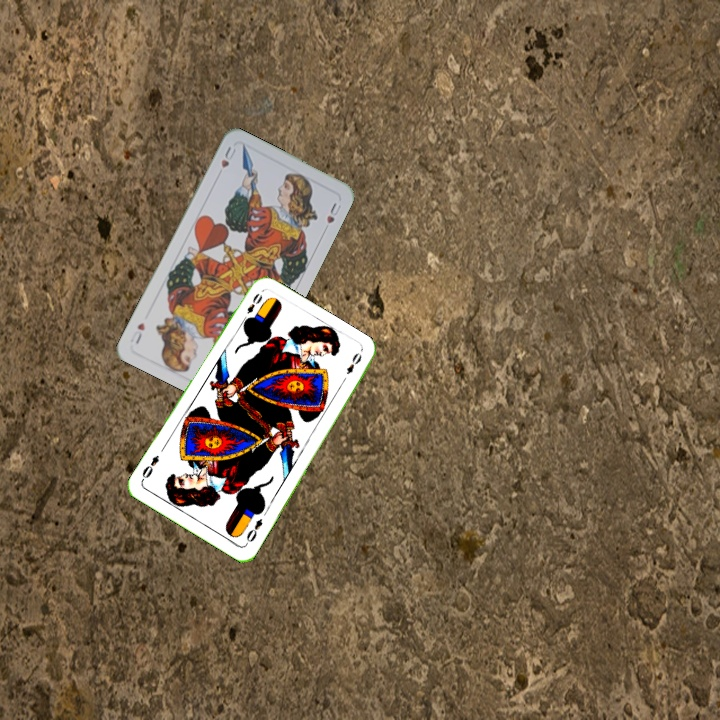EO: (238, 289, 265, 325), (242, 514, 265, 547)
HU: (217, 142, 239, 170)
